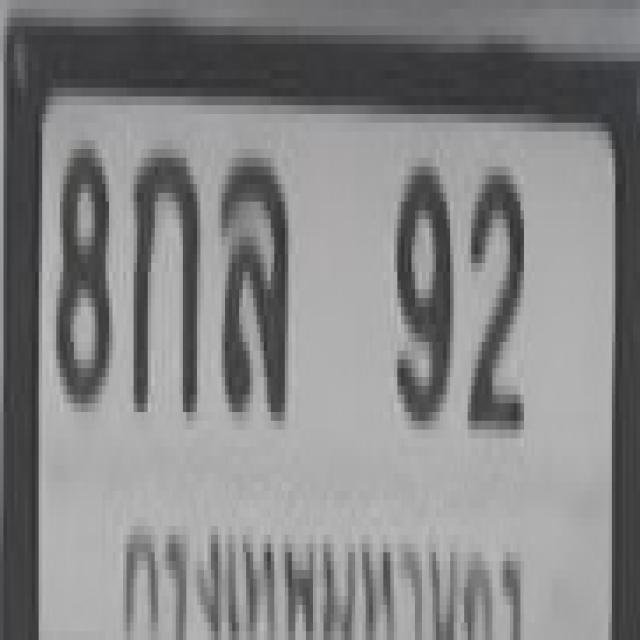-: (130, 136, 197, 408), (218, 144, 285, 408)
2: (464, 158, 521, 421)
8: (53, 140, 109, 394)
9: (394, 154, 450, 416)
BKK: (117, 483, 530, 640)
